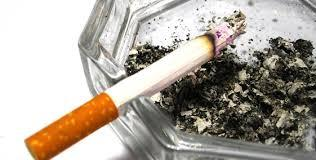smoke: (23, 9, 248, 160)
